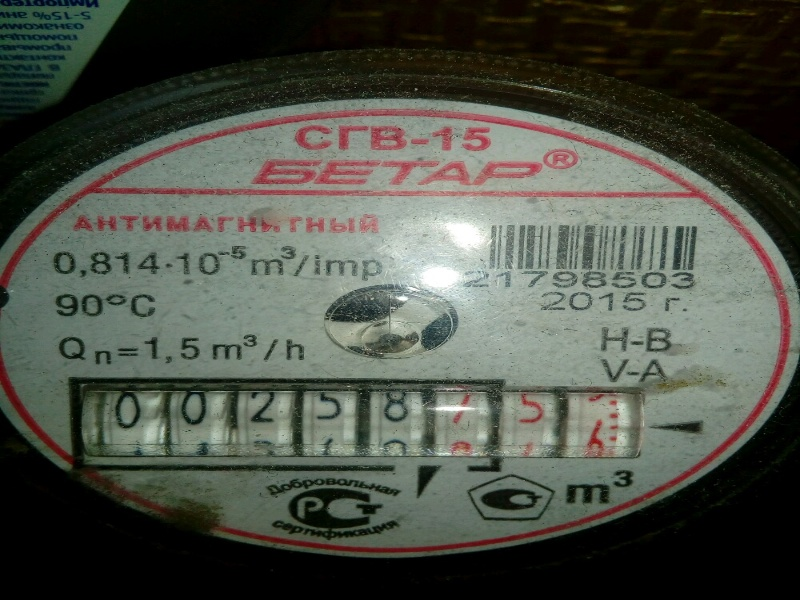meter: (62, 383, 634, 461)
